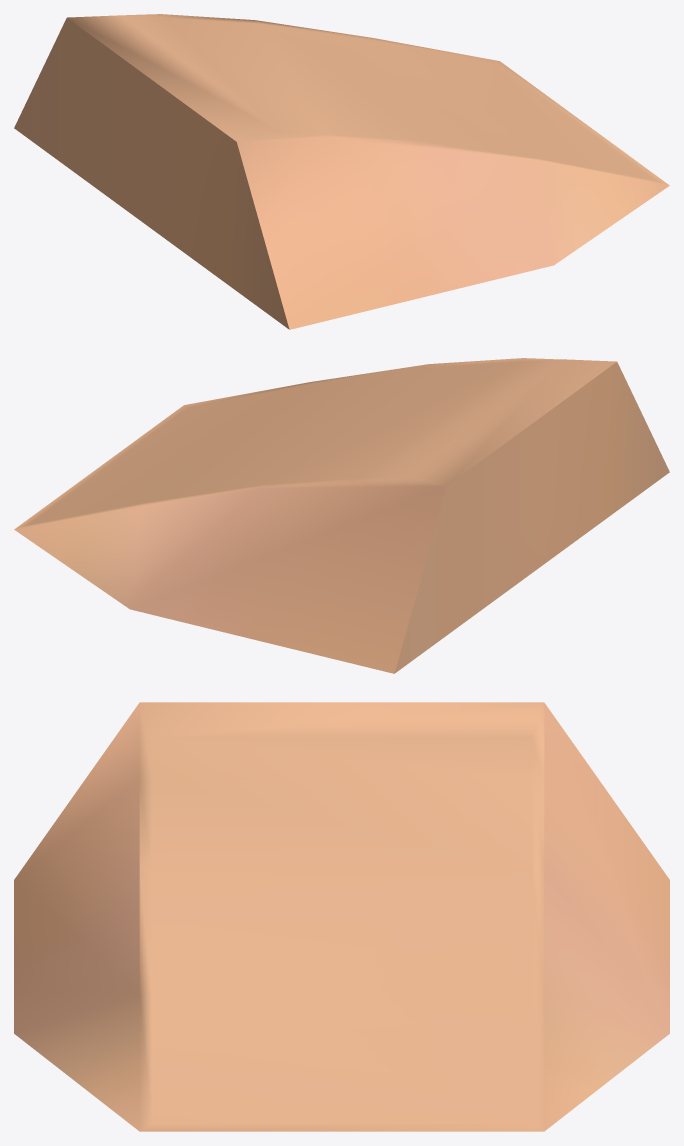
The model's file is DirtBikeSandTrackJumpLanding.glb.
3 renders of one model, top to bottom at view 1: azimuth 30°, elevation 25°; view 2: azimuth 150°, elevation 25°; view 3: azimuth 270°, elevation 25°, orthographic. The views are drawn at different scales.
Visible parts, largest first — view 1: DirtBikeSandTrackJumpLanding; view 2: DirtBikeSandTrackJumpLanding; view 3: DirtBikeSandTrackJumpLanding.
Boxes of the visible parts, x1=… form: DirtBikeSandTrackJumpLanding: x1=14, y1=14, x2=669, y2=329; DirtBikeSandTrackJumpLanding: x1=14, y1=358, x2=669, y2=673; DirtBikeSandTrackJumpLanding: x1=14, y1=702, x2=669, y2=1131.
Bounding box in the file's own units: 5.89 × 1.94 × 6.49.
1 material, 1 textured.
